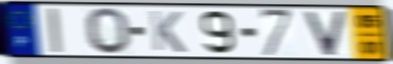7: (260, 7, 296, 58)
9: (200, 9, 237, 55)
I: (45, 7, 65, 55)
K: (148, 9, 188, 54)
O: (84, 6, 133, 56)
V: (302, 9, 348, 57)
